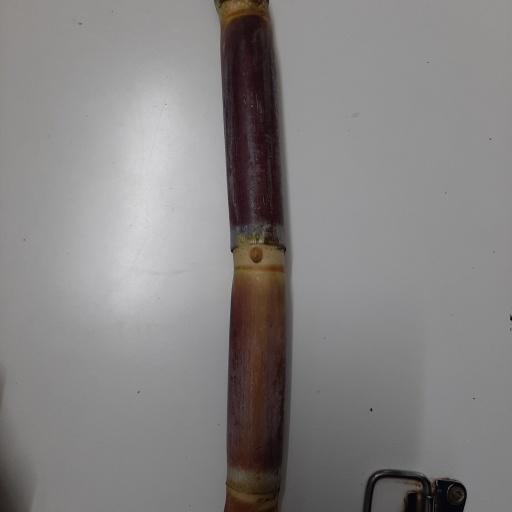Bud: (249, 246, 263, 263)
